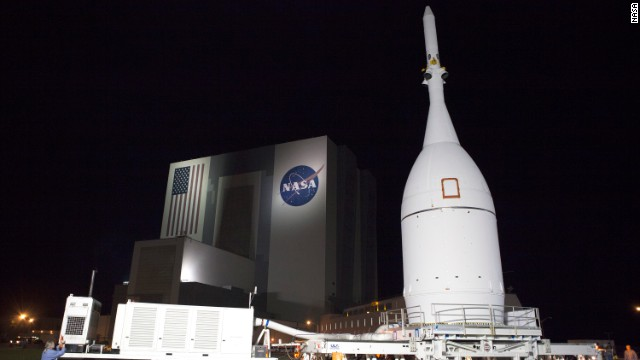NASA: (276, 160, 325, 209)
